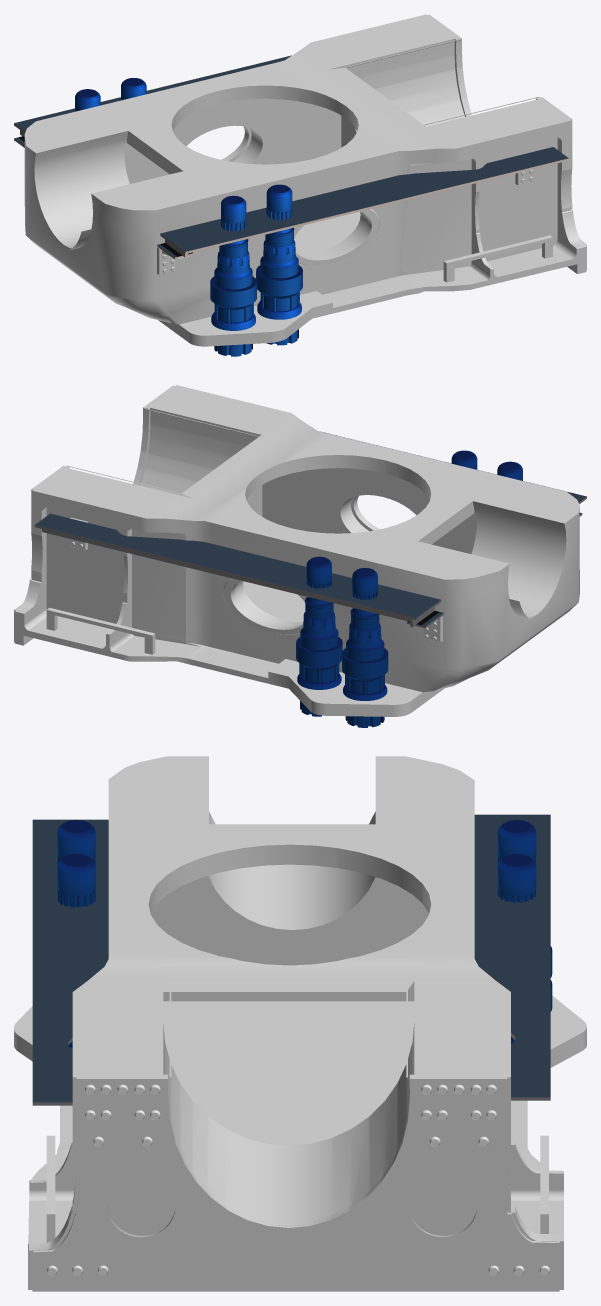
File: dizuo_1.glb
3 renders of one model, top to bottom at view 1: azimuth 30°, elevation 25°; view 2: azimuth 150°, elevation 25°; view 3: azimuth 270°, elevation 25°, orthographic. The views are drawn at different scales.
Parts seen in each view (by area): view 1: 底盘1; view 2: 底盘1; view 3: 底盘1.
Part boxes in pixels (box(x1,y1,x2,y2)): 底盘1: box(14, 14, 586, 356); 底盘1: box(14, 385, 586, 727); 底盘1: box(14, 756, 586, 1291).
Size of the model in its own units: 17.38 by 5.48 by 12.69.
Materials: 7 (3 with a texture image).
